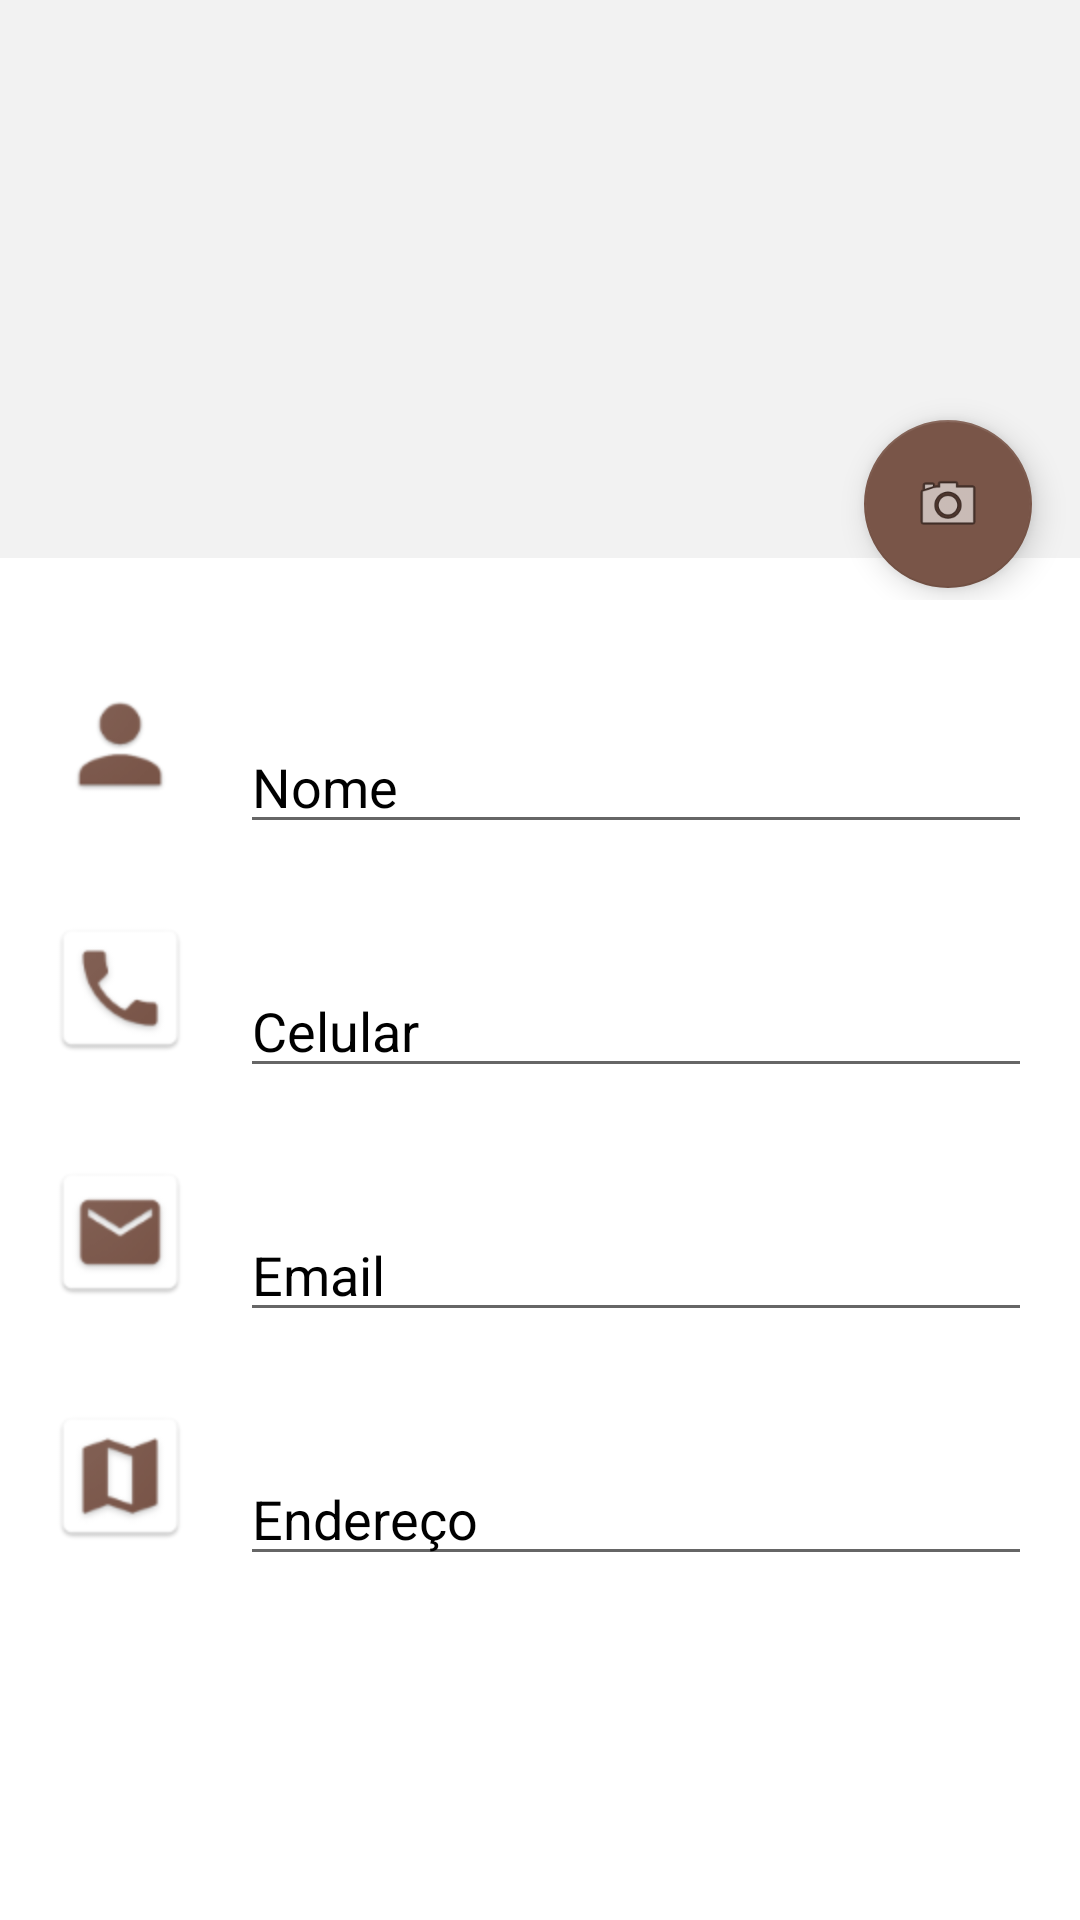

Icon bounding boxes for this 1080px×1920px phone screenshot, format Rect(x1, y1, x2, y2):
camera: Rect(864, 420, 1032, 588)
mapa: Rect(63, 1438, 177, 1536)
pessoa: Rect(77, 702, 163, 788)
telefone: Rect(63, 950, 177, 1048)
